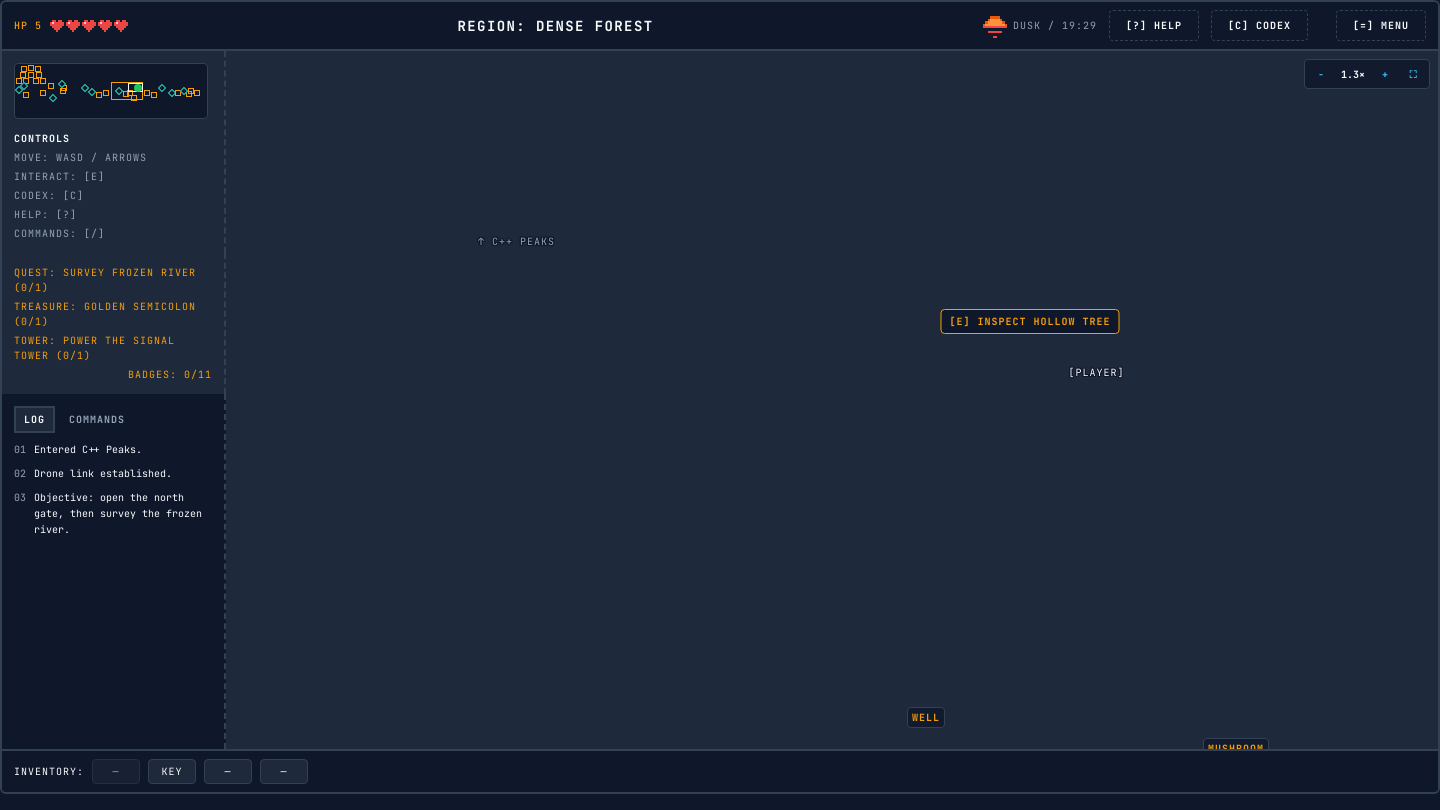
Test: Overworld map › shows an inspection card that can be closed
The image size is (1440, 810).
Click the button named "[X] Hollow Tree" at point(1030, 334), box x1=978 y1=266 x2=1082 y2=402
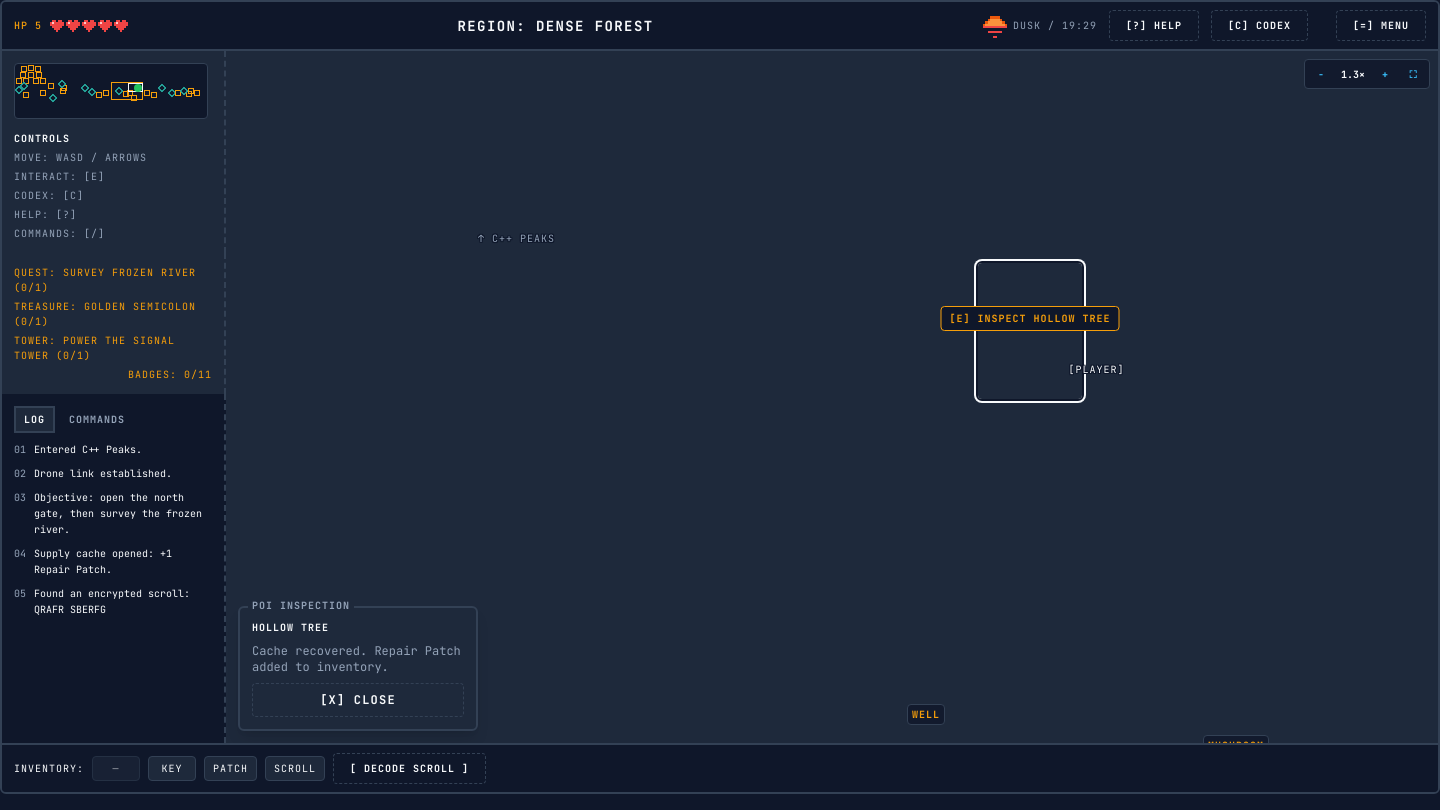
Result: the text "Cache recovered. Repair Patch added to inventory." is shown at x1=252 y1=643 x2=464 y2=675
Click the button "[X] Close" at point(358, 700), box x1=252 y1=683 x2=464 y2=717
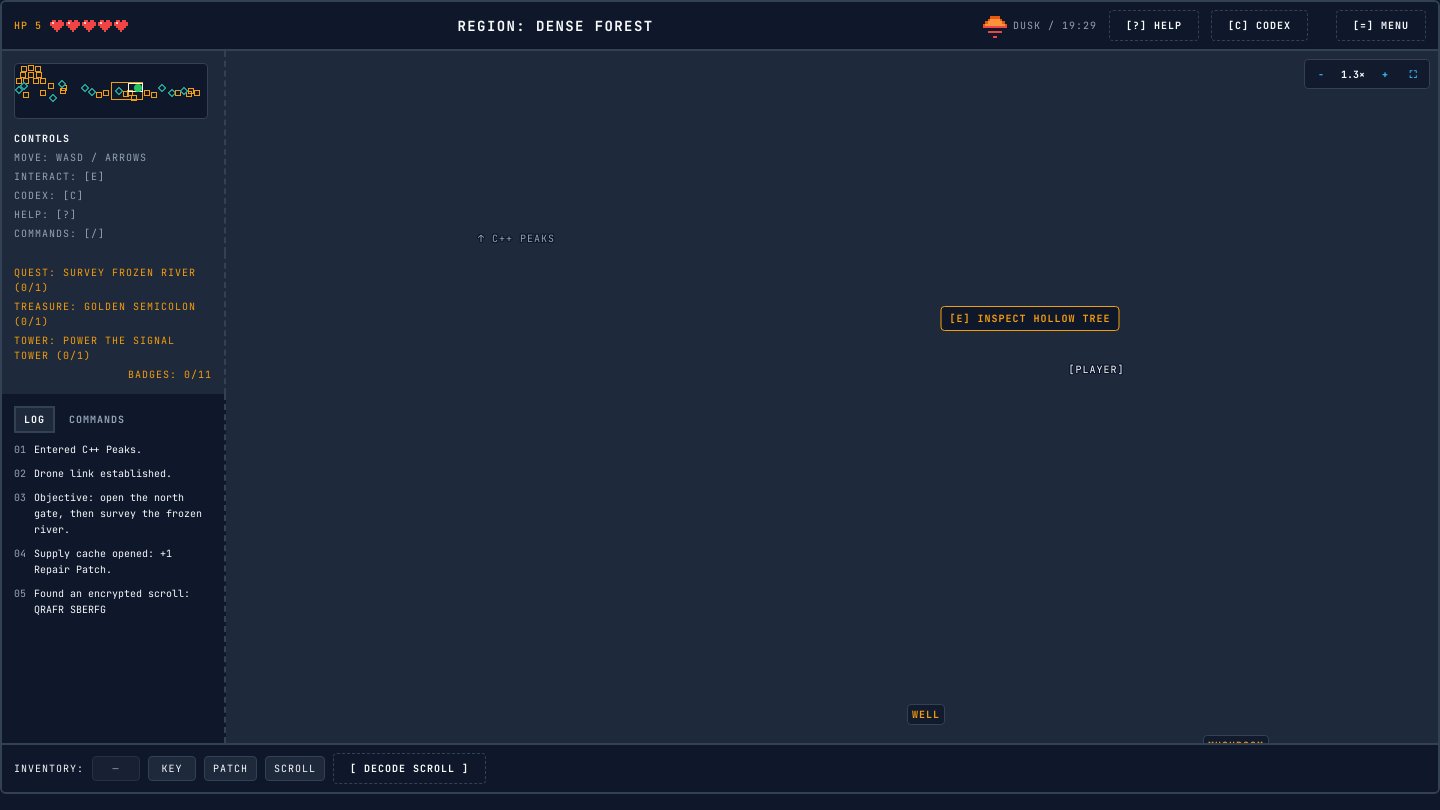
Result: the text "POI Inspection" is gone
